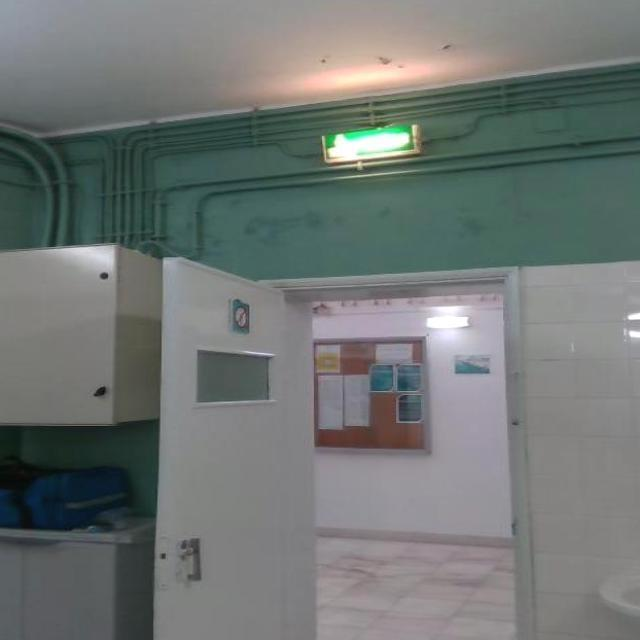door: (152, 254, 314, 638)
